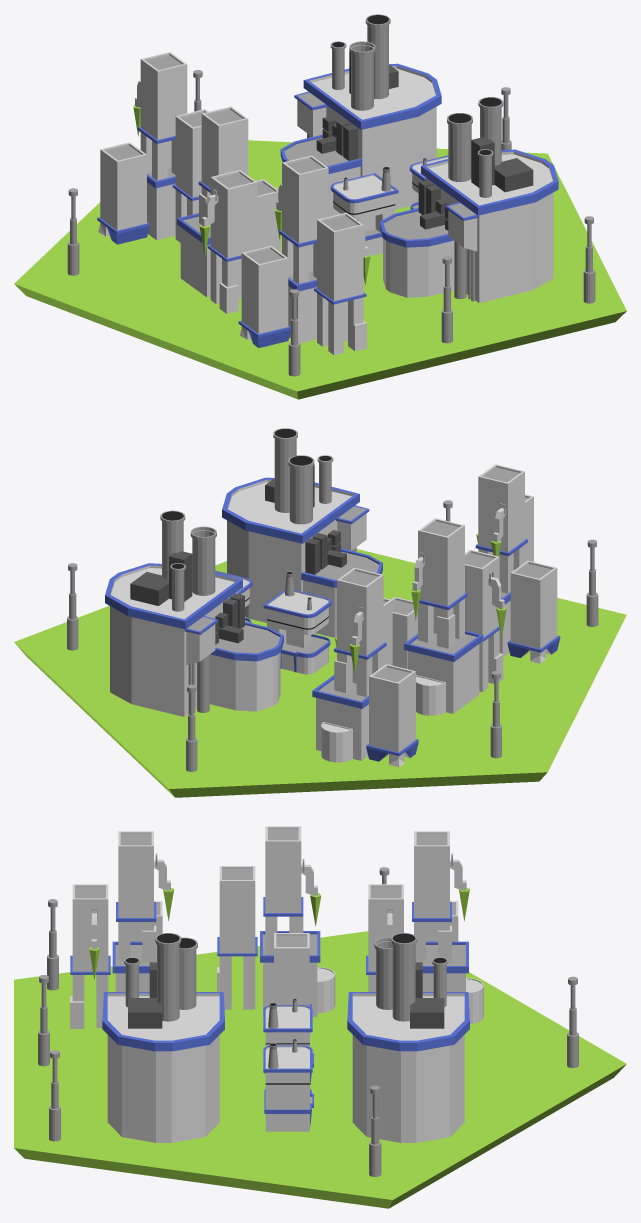
The model's file is VilleSpace_2.fbx.
3 renders of one model, top to bottom at view 1: azimuth 30°, elevation 25°; view 2: azimuth 150°, elevation 25°; view 3: azimuth 270°, elevation 25°, orthographic. The views are drawn at different scales.
Visible parts, largest first — view 1: tiles; view 2: tiles; view 3: tiles.
Boxes of the visible parts, box(x1,y1,x2,y2) form: tiles: box(14, 14, 626, 399); tiles: box(14, 428, 626, 797); tiles: box(14, 826, 626, 1208).
Bounding box in the file's own units: 111 × 36.36 × 105.
